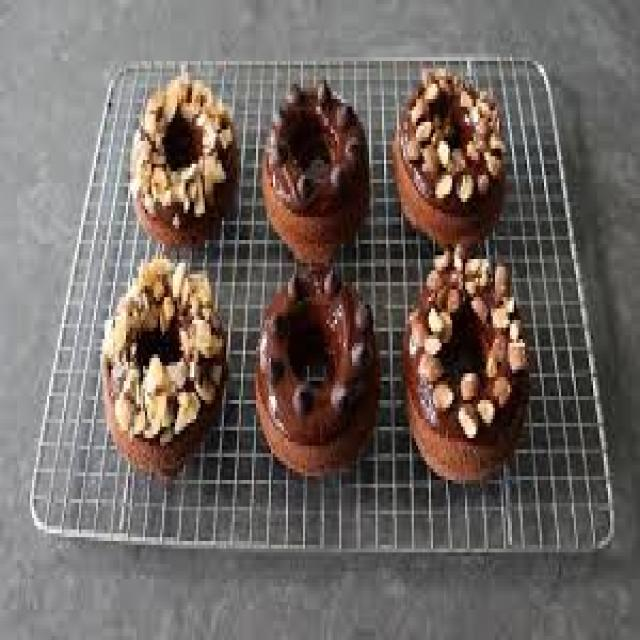Donut: (138, 100, 540, 472)
